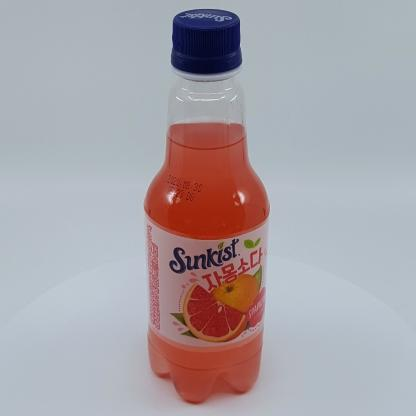----------350ML-PET-: (144, 9, 270, 402)
